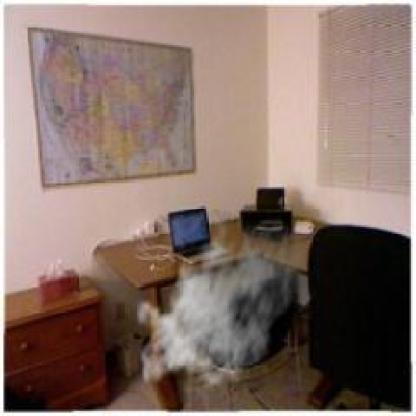Smoke: (135, 210, 307, 393)
